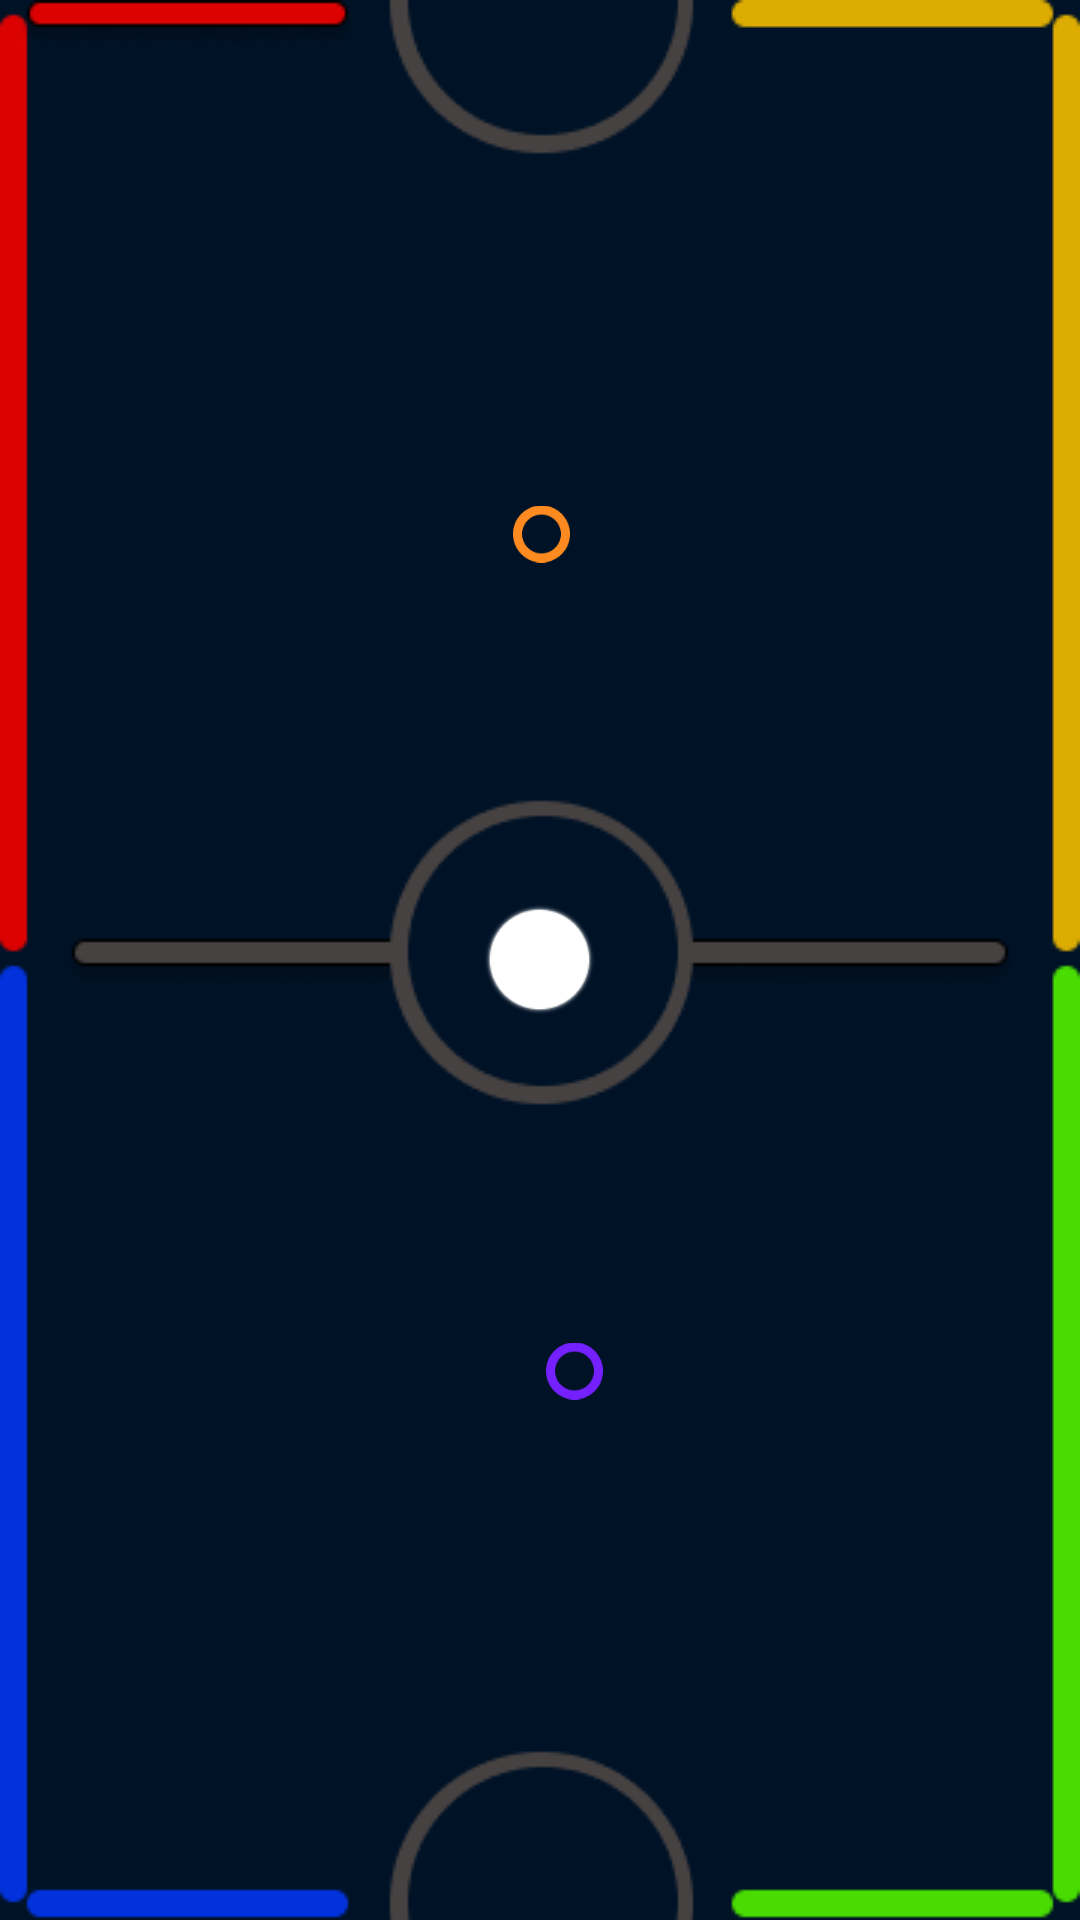

Named icons in this screenshot (1080×1920) and their centers, (x,y):
Ball: (539,959)
